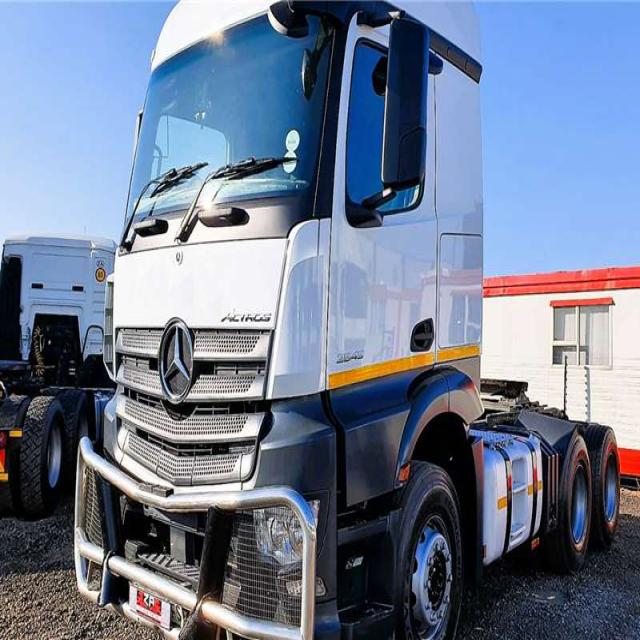Heavy Duty Truck: (73, 1, 622, 639)
